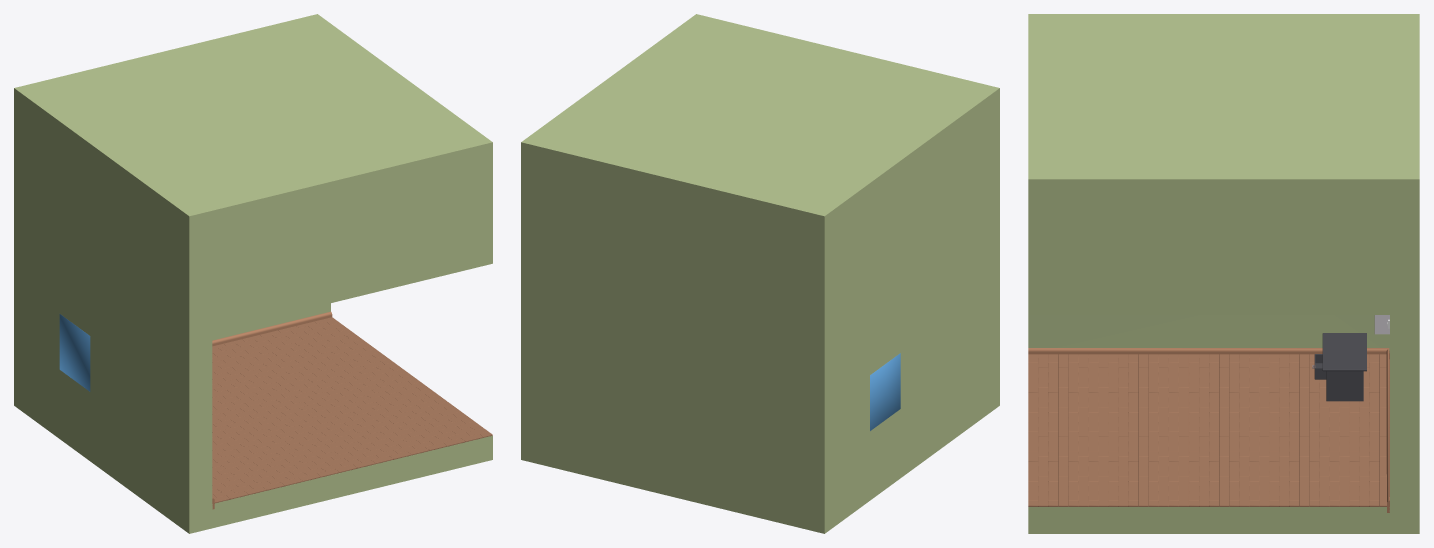
The model's file is room_no_laptop_no_phone.glb.
3 renders of one model, left to right at view 1: azimuth 30°, elevation 25°; view 2: azimuth 150°, elevation 25°; view 3: azimuth 270°, elevation 25°, orthographic. The views are drawn at different scales.
Visible parts, largest first — view 1: walls, floor_big, window, floor_trim; view 2: walls, window; view 3: walls, floor_big, Plane.006, floor_trim.
Boxes of the visible parts, left/top/right/bottom form: walls: left=14, top=14, right=492, bottom=533; floor_big: left=212, top=317, right=492, bottom=503; window: left=59, top=314, right=90, bottom=391; floor_trim: left=212, top=311, right=332, bottom=509; walls: left=521, top=14, right=999, bottom=533; window: left=870, top=353, right=900, bottom=430; walls: left=1028, top=14, right=1419, bottom=533; floor_big: left=1028, top=353, right=1389, bottom=506; Plane.006: left=1314, top=333, right=1366, bottom=401; floor_trim: left=1028, top=348, right=1389, bottom=512.
Size of the model in its own units: 7.97 by 7.97 by 7.97.
